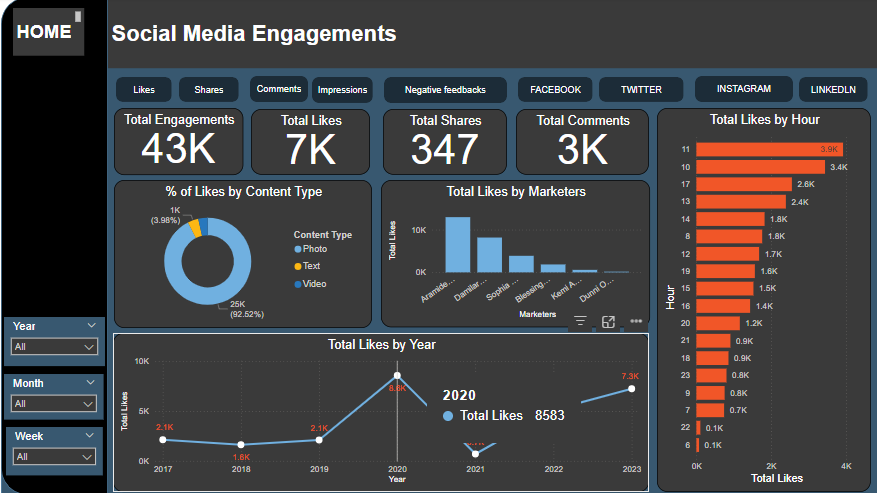

The page's visual inventory and layout, read from the dashboard file:
{"tool":"powerbi","page":{"name":"Facebook","canvas":[1280,720],"ordinal":0},"visuals":[{"type":"shape","box":[10.1,0,1269.4,720],"z":0},{"type":"shape","box":[10.1,0,154.7,720],"z":1000},{"type":"textbox","box":[27.5,15.9,102.7,69.4],"z":2000},{"type":"shape","box":[164.8,0,951.3,102.7],"z":3000},{"type":"textbox","box":[164.8,0,1114.7,102.7],"z":4000},{"type":"donutChart","fields":{"Y":["Post Performance (Stanbic IBTC) January 1, 2013 - July 13, 2023_Facebook.Likes"],"Category":["Post Performance (Stanbic IBTC) January 1, 2013 - July 13, 2023_Facebook.Content Type"]},"box":[173.5,264.6,373,214],"z":5000},{"type":"columnChart","fields":{"Y":["Post Performance (Stanbic IBTC) January 1, 2013 - July 13, 2023_Facebook.Likes"],"Category":["Post Performance (Stanbic IBTC) January 1, 2013 - July 13, 2023_Facebook.Sent by"]},"box":[559.5,264.6,388.9,212.5],"z":6000},{"type":"lineChart","fields":{"Category":["Post Performance (Stanbic IBTC) January 1, 2013 - July 13, 2023_Facebook.Year"],"Y":["Post Performance (Stanbic IBTC) January 1, 2013 - July 13, 2023_Facebook.Likes"]},"box":[172,485.8,774.9,229.9],"z":7000},{"type":"barChart","fields":{"Category":["Post Performance (Stanbic IBTC) January 1, 2013 - July 13, 2023_Facebook.Hour"],"Y":["Post Performance (Stanbic IBTC) January 1, 2013 - July 13, 2023_Facebook.Likes"]},"box":[958.6,160.5,309.4,555.2],"z":8000},{"type":"kpi","title":"Total Shares ","fields":{"Indicator":["Post Performance (Stanbic IBTC) January 1, 2013 - July 13, 2023_Facebook.Shares"],"TrendLine":["Post Performance (Stanbic IBTC) January 1, 2013 - July 13, 2023_Facebook.Year"]},"box":[562.4,161.9,179.3,95.4],"z":9000},{"type":"kpi","title":"Total Engagements","fields":{"Indicator":["Post Performance (Stanbic IBTC) January 1, 2013 - July 13, 2023_Facebook.Engagements"],"TrendLine":["Post Performance (Stanbic IBTC) January 1, 2013 - July 13, 2023_Facebook.Year"]},"box":[173.5,160.5,186.5,96.9],"z":10000},{"type":"kpi","title":"Total Likes ","fields":{"Indicator":["Post Performance (Stanbic IBTC) January 1, 2013 - July 13, 2023_Facebook.Likes"],"TrendLine":["Post Performance (Stanbic IBTC) January 1, 2013 - July 13, 2023_Facebook.Year"]},"box":[371.6,161.9,172,95.4],"z":11000},{"type":"kpi","title":"Total Comments","fields":{"Indicator":["Post Performance (Stanbic IBTC) January 1, 2013 - July 13, 2023_Facebook.Comments"],"TrendLine":["Post Performance (Stanbic IBTC) January 1, 2013 - July 13, 2023_Facebook.Year"]},"box":[754.7,161.9,192.3,95.4],"z":12000},{"type":"slicer","fields":{"Values":["Post Performance (Stanbic IBTC) January 1, 2013 - July 13, 2023_Facebook.Year"]},"box":[14.3,462.9,145.7,71.4],"z":13000},{"type":"slicer","fields":{"Values":["Post Performance (Stanbic IBTC) January 1, 2013 - July 13, 2023_Facebook.Month"]},"box":[14.3,545.7,144.3,65.7],"z":14000},{"type":"slicer","fields":{"Values":["Post Performance (Stanbic IBTC) January 1, 2013 - July 13, 2023_Facebook.Week"]},"box":[17.1,621.4,140,70],"z":15000},{"type":"actionButton","box":[176.4,115.7,81,36.1],"z":16000},{"type":"actionButton","box":[267.5,115.7,86.7,36.1],"z":17000},{"type":"actionButton","box":[370.1,114.2,83.9,37.6],"z":18000},{"type":"actionButton","box":[459.8,115.7,88.2,37.6],"z":19000},{"type":"actionButton","box":[563.9,115.7,177.8,37.6],"z":20000},{"type":"actionButton","box":[757.6,115.6,108.4,36.1],"z":21000,"group":"g1"},{"type":"actionButton","box":[874.7,115.6,122.9,36.1],"z":22000,"group":"g1"},{"type":"actionButton","box":[1013.5,114.2,141.7,37.6],"z":23000,"group":"g1"},{"type":"actionButton","box":[1163.9,115.6,99.8,36.1],"z":24000,"group":"g1"},{"type":"group","id":"g1","title":"Group 1","box":[757.6,114.2,506,37.6],"z":24001}]}

Visuals, with their boxes in screenshot pixels (x1, y1, x2, y2), scaled from the page's 1280x720 canvas onto the 877x493 screenshot:
shape: (x1=7, y1=0, x2=876, y2=492)
shape: (x1=7, y1=0, x2=113, y2=492)
textbox: (x1=19, y1=11, x2=89, y2=58)
shape: (x1=113, y1=0, x2=765, y2=70)
textbox: (x1=113, y1=0, x2=876, y2=70)
donutChart - Post Performance (Stanbic IBTC) January 1, 2013 - July 13, 2023_Facebook.Likes x Post Performance (Stanbic IBTC) January 1, 2013 - July 13, 2023_Facebook.Content Type: (x1=119, y1=181, x2=374, y2=328)
columnChart - Post Performance (Stanbic IBTC) January 1, 2013 - July 13, 2023_Facebook.Likes x Post Performance (Stanbic IBTC) January 1, 2013 - July 13, 2023_Facebook.Sent by: (x1=383, y1=181, x2=650, y2=327)
lineChart - Post Performance (Stanbic IBTC) January 1, 2013 - July 13, 2023_Facebook.Year x Post Performance (Stanbic IBTC) January 1, 2013 - July 13, 2023_Facebook.Likes: (x1=118, y1=333, x2=649, y2=490)
barChart - Post Performance (Stanbic IBTC) January 1, 2013 - July 13, 2023_Facebook.Hour x Post Performance (Stanbic IBTC) January 1, 2013 - July 13, 2023_Facebook.Likes: (x1=657, y1=110, x2=869, y2=490)
"Total Shares " kpi: (x1=385, y1=111, x2=508, y2=176)
"Total Engagements" kpi: (x1=119, y1=110, x2=247, y2=176)
"Total Likes " kpi: (x1=255, y1=111, x2=372, y2=176)
"Total Comments" kpi: (x1=517, y1=111, x2=649, y2=176)
slicer - Post Performance (Stanbic IBTC) January 1, 2013 - July 13, 2023_Facebook.Year: (x1=10, y1=317, x2=110, y2=366)
slicer - Post Performance (Stanbic IBTC) January 1, 2013 - July 13, 2023_Facebook.Month: (x1=10, y1=374, x2=109, y2=419)
slicer - Post Performance (Stanbic IBTC) January 1, 2013 - July 13, 2023_Facebook.Week: (x1=12, y1=425, x2=108, y2=473)
actionButton: (x1=121, y1=79, x2=176, y2=104)
actionButton: (x1=183, y1=79, x2=243, y2=104)
actionButton: (x1=254, y1=78, x2=311, y2=104)
actionButton: (x1=315, y1=79, x2=375, y2=105)
actionButton: (x1=386, y1=79, x2=508, y2=105)
actionButton: (x1=519, y1=79, x2=593, y2=104)
actionButton: (x1=599, y1=79, x2=684, y2=104)
actionButton: (x1=694, y1=78, x2=791, y2=104)
actionButton: (x1=797, y1=79, x2=866, y2=104)
"Group 1" group: (x1=519, y1=78, x2=866, y2=104)
